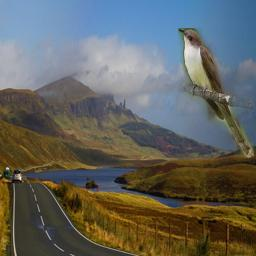Cuckoo: (178, 28, 254, 158)
